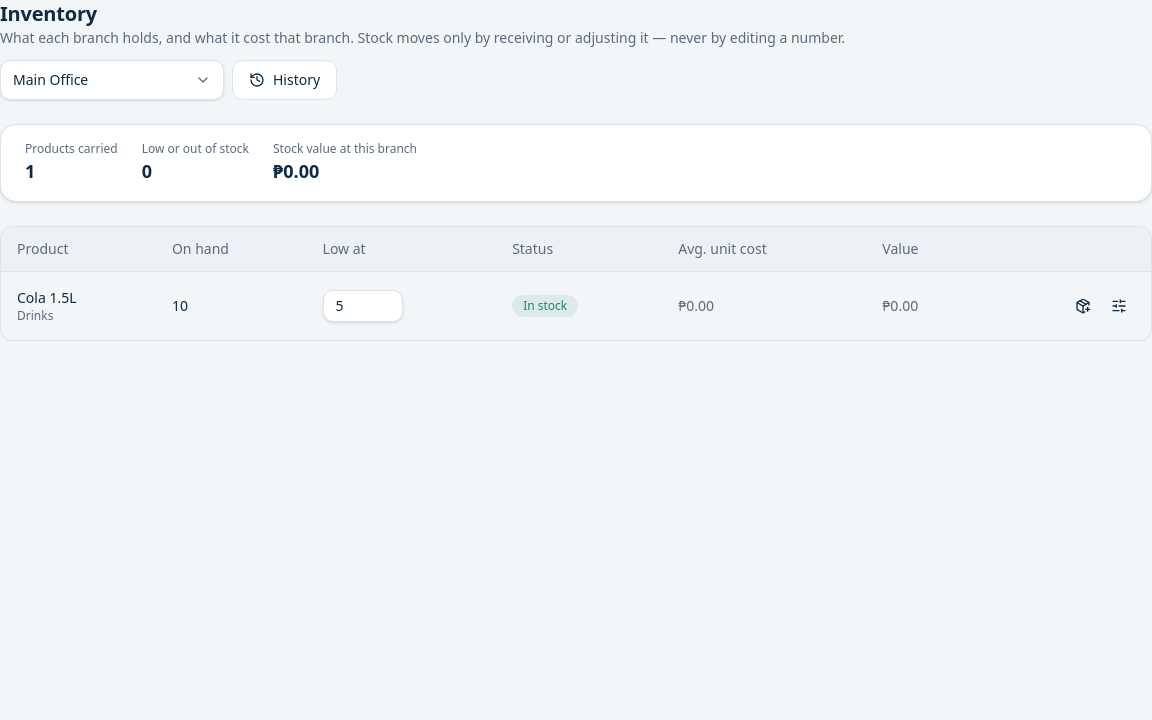
it: adjusting a count › says the average cost is left alone
The image size is (1152, 720).
Click the button named "Adjust Cola 1.5L".
click(1119, 306)  # box x1=1103 y1=290 x2=1135 y2=322
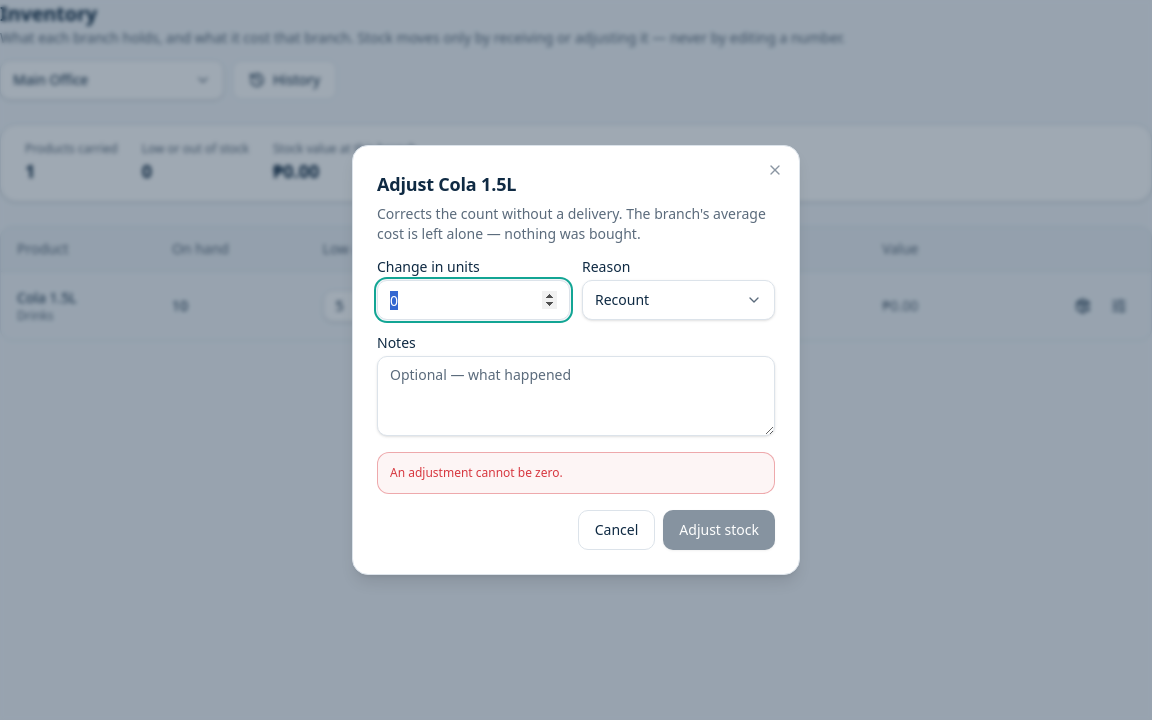
Result: the text "average cost is left alone" is shown at x1=377 y1=204 x2=766 y2=243
